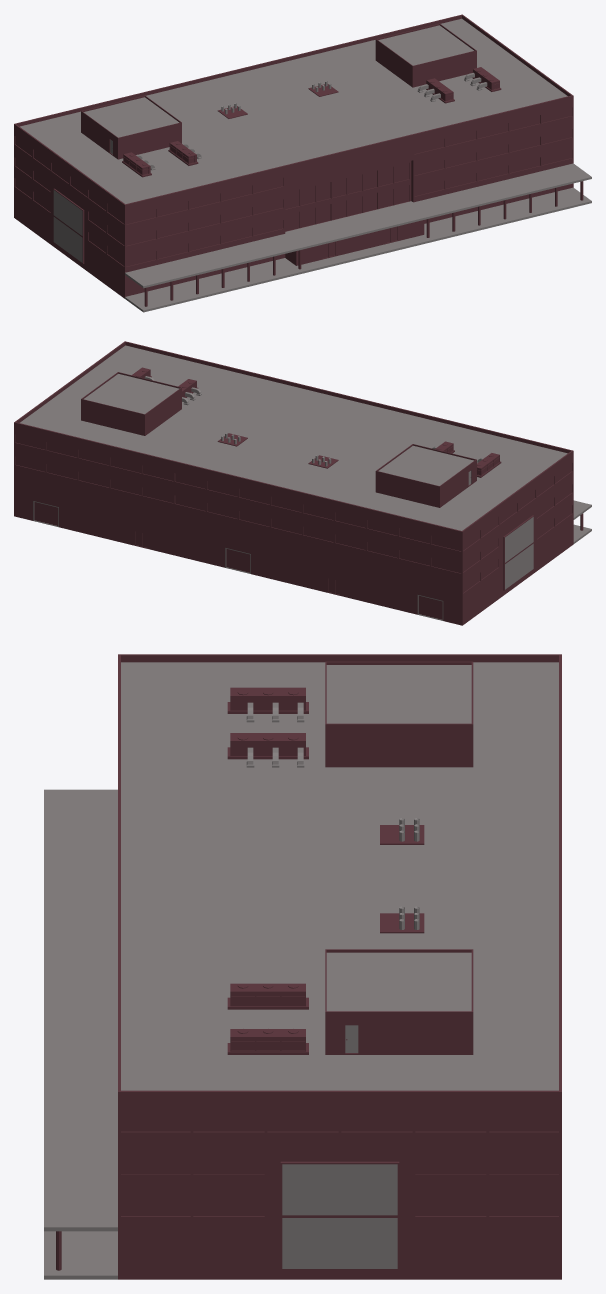
The model's file is airport-terminal.fbx.
3 renders of one model, top to bottom at view 1: azimuth 30°, elevation 25°; view 2: azimuth 150°, elevation 25°; view 3: azimuth 270°, elevation 25°, orthographic. The views are drawn at different scales.
Visible parts, largest first — view 1: airport-terminal; view 2: airport-terminal; view 3: airport-terminal.
Part boxes in pixels (box(x1,y1,x2,y2)): airport-terminal: box(14, 14, 591, 312); airport-terminal: box(14, 341, 591, 625); airport-terminal: box(44, 654, 561, 1279).
Bounding box in the file's own units: 70.4 × 16.7 × 35.
